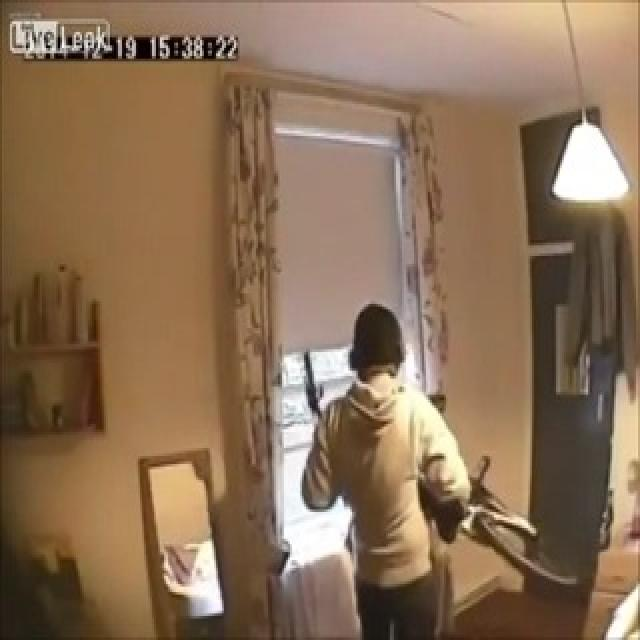thief: (331, 286, 432, 464)
